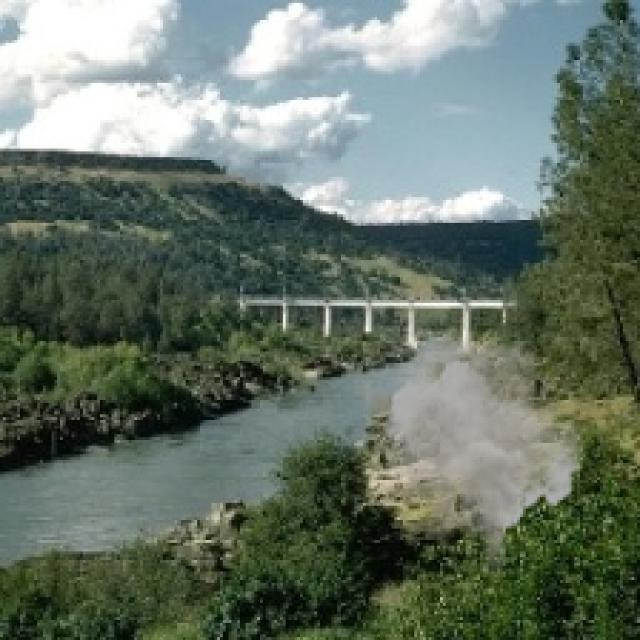smoke: (348, 326, 586, 577)
